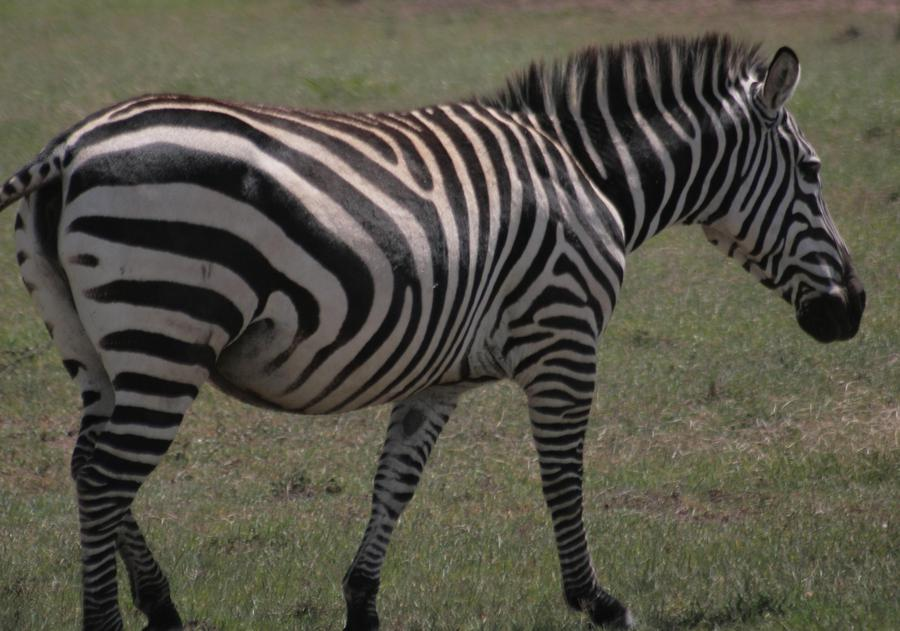zebra_plains: (98, 94, 595, 411)
